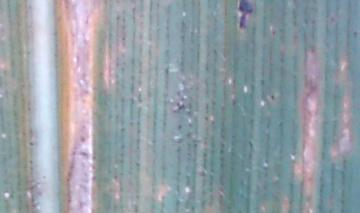tarspot: (235, 1, 255, 35), (267, 91, 278, 105)
